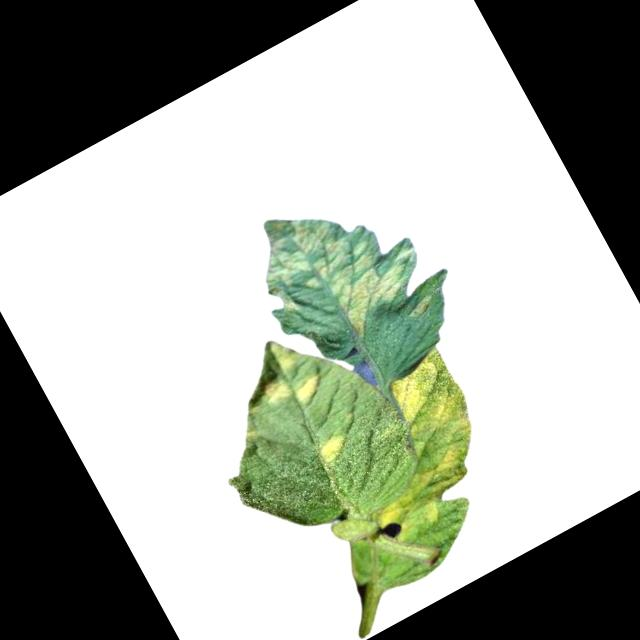Leaf_Mold: (238, 163, 441, 368), (358, 433, 501, 552), (384, 349, 483, 454), (309, 430, 357, 474), (263, 331, 304, 374), (289, 372, 328, 408), (257, 372, 295, 407)
